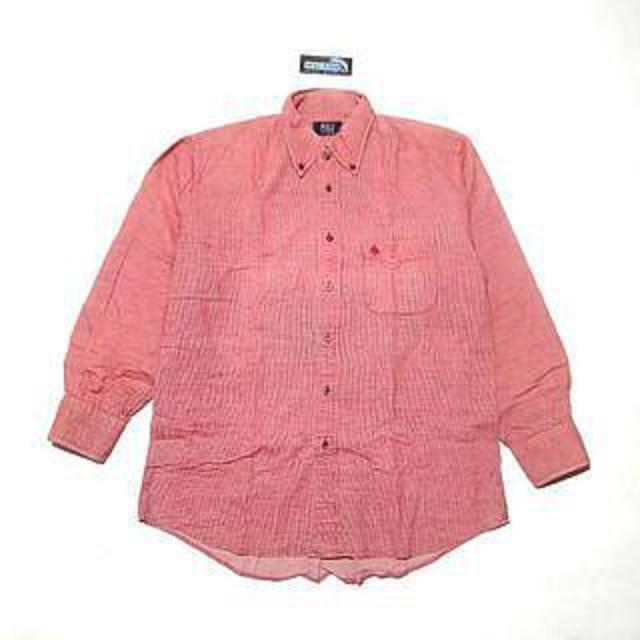SHIRT: (39, 86, 599, 592)
